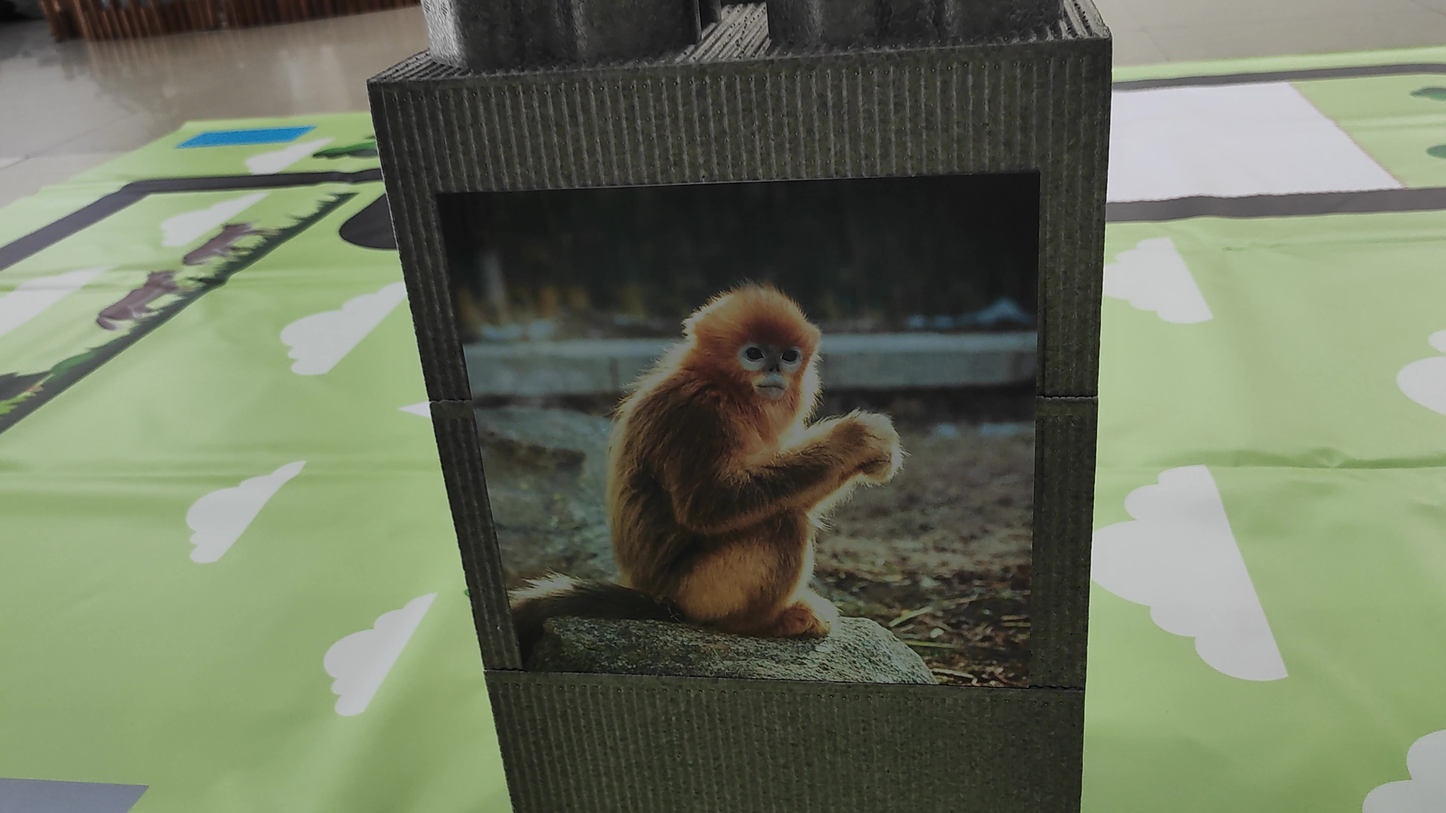monkey: (497, 237, 935, 662)
